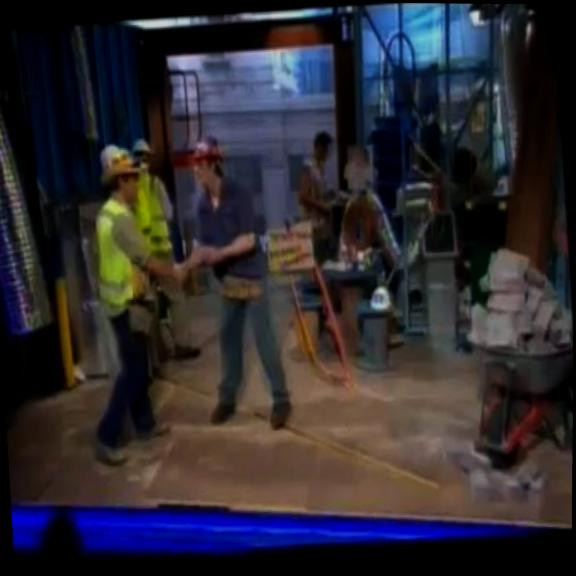safety_vest: (93, 194, 144, 325), (141, 170, 175, 256), (135, 184, 152, 246)
